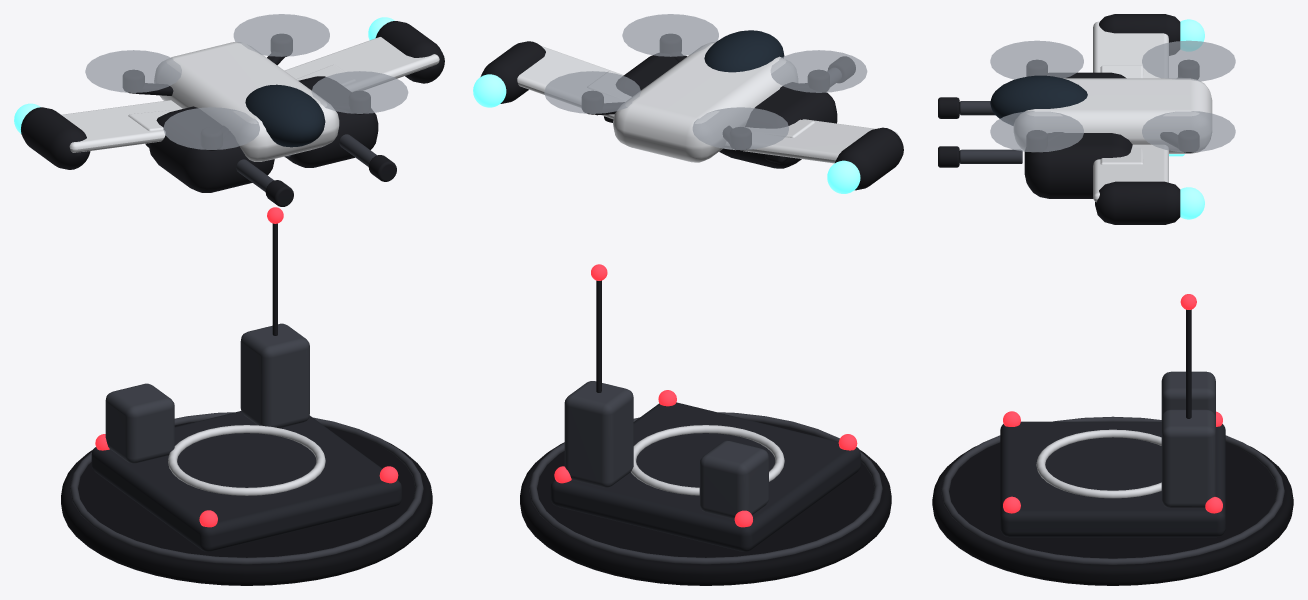
File: drone.glb
3 views of the same model, side by side, from view 1: azimuth 30°, elevation 25°; view 2: azimuth 150°, elevation 25°; view 3: azimuth 270°, elevation 25° (orthographic). The views are drawn at different scales.
Parts seen in each view (by area): view 1: plads_net, op4.001_net, fod_net, drone_net, vaaben_side_net, op2_net, vaaben_side.001_net; view 2: plads_net, op4.001_net, fod_net, drone_net, op2_net, vaaben_side_net, vaaben_side.001_net, ned4.002_net; view 3: plads_net, op4.001_net, fod_net, drone_net, vaaben_side.001_net, op2_net, vaaben_side_net, ned4.001_net, ned4.002_net.
Part boxes in pixels (box(x1,y1,x2,y2)): plads_net: box(91, 207, 401, 551); op4.001_net: box(14, 17, 444, 169); fod_net: box(61, 412, 432, 585); drone_net: box(85, 14, 408, 157); vaaben_side_net: box(148, 106, 293, 206); op2_net: box(95, 383, 398, 527); vaaben_side.001_net: box(286, 76, 396, 181); plads_net: box(550, 264, 860, 551); op4.001_net: box(473, 30, 903, 193); fod_net: box(520, 412, 891, 585); drone_net: box(544, 14, 867, 150); op2_net: box(554, 390, 857, 527); vaaben_side_net: box(719, 56, 855, 168); vaaben_side.001_net: box(616, 31, 741, 96); ned4.002_net: box(587, 71, 631, 100); plads_net: box(1000, 294, 1225, 537); op4.001_net: box(990, 14, 1212, 224); fod_net: box(932, 416, 1293, 585); drone_net: box(990, 40, 1235, 152); vaaben_side.001_net: box(938, 133, 1132, 198); op2_net: box(1003, 371, 1222, 513); vaaben_side_net: box(938, 72, 1126, 118); ned4.001_net: box(1100, 65, 1143, 78); ned4.002_net: box(1100, 147, 1143, 164).
Size of the model in its own units: 2.44 by 2.64 by 2.
